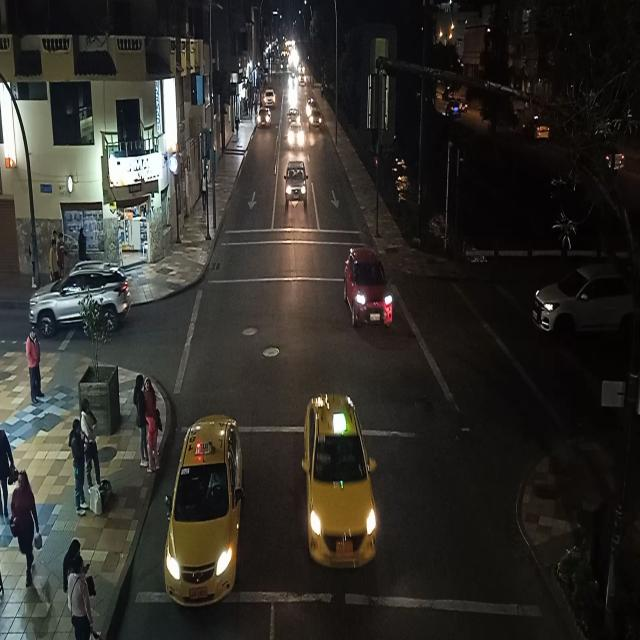CMT: (286, 162, 307, 204)
SED: (168, 418, 244, 598), (307, 394, 379, 568)
SUV: (28, 264, 127, 334)
